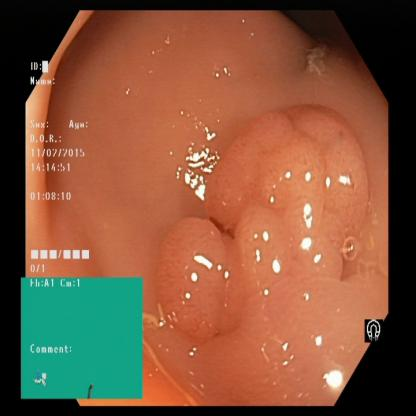Labels: (27, 56, 101, 276), (22, 276, 144, 400)
Polyps: (229, 112, 361, 266), (156, 219, 230, 341)
